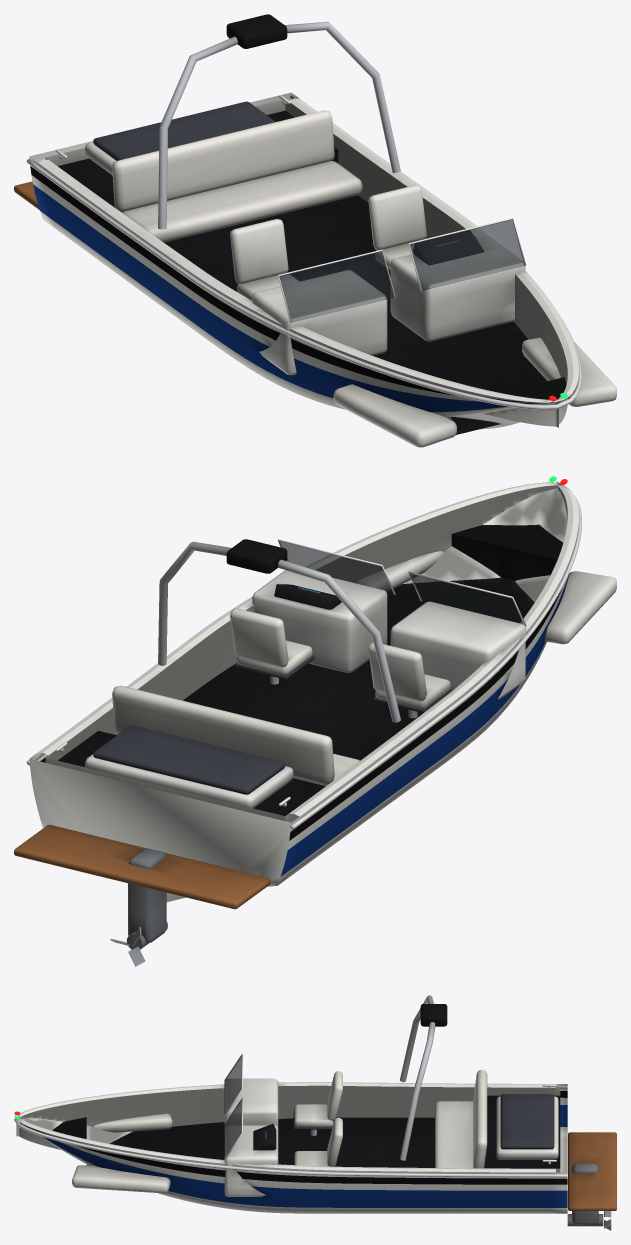
The model's file is boat-ski.glb.
3 renders of one model, top to bottom at view 1: azimuth 30°, elevation 25°; view 2: azimuth 150°, elevation 25°; view 3: azimuth 270°, elevation 25°, orthographic. The views are drawn at different scales.
Parts seen in each view (by area): view 1: body; view 2: body; view 3: body.
Part boxes in pixels (bbox=[...]): body: bbox=[14, 14, 616, 447]; body: bbox=[14, 476, 616, 949]; body: bbox=[14, 995, 616, 1226].
Size of the model in its own units: 2.4 by 2.76 by 6.77.
17 materials, 1 textured.
